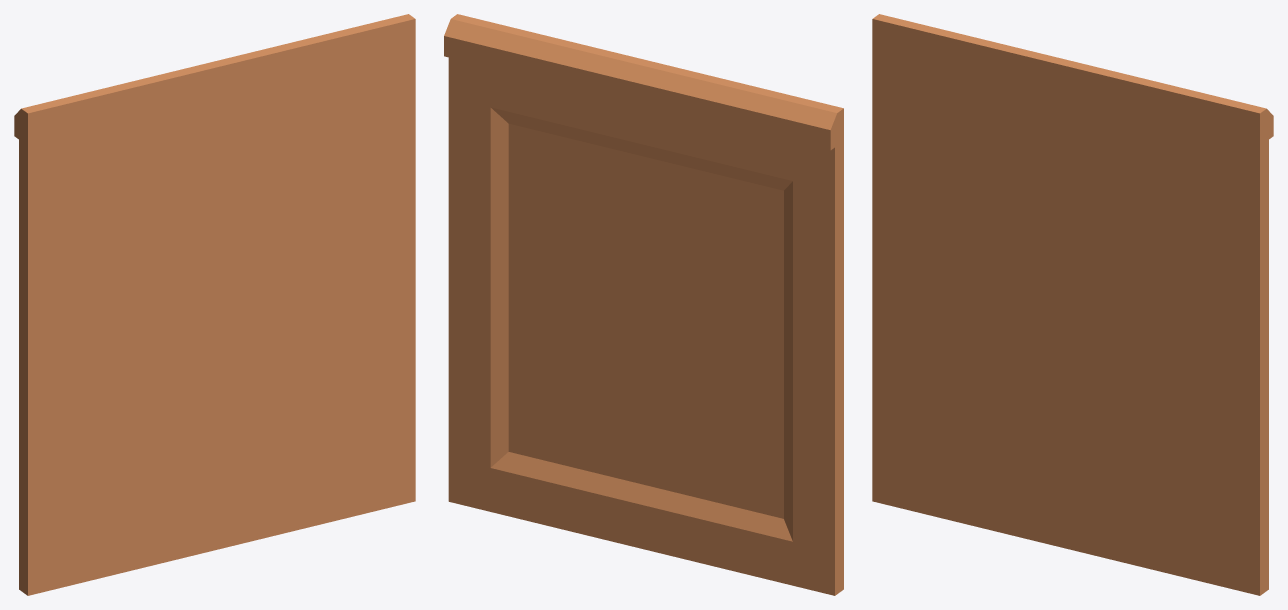
The model's file is paneling.fbx.
3 views of the same model, side by side, from view 1: azimuth 30°, elevation 25°; view 2: azimuth 150°, elevation 25°; view 3: azimuth 330°, elevation 25° (orthographic).
Parts seen in each view (by area): view 1: paneling; view 2: paneling; view 3: paneling.
Boxes of the visible parts, x1,y1,x2,y2 form: paneling: (14,14,415,595); paneling: (444,14,843,595); paneling: (872,14,1273,595).
Bounding box in the file's own units: 5 × 5.95 × 0.3.
